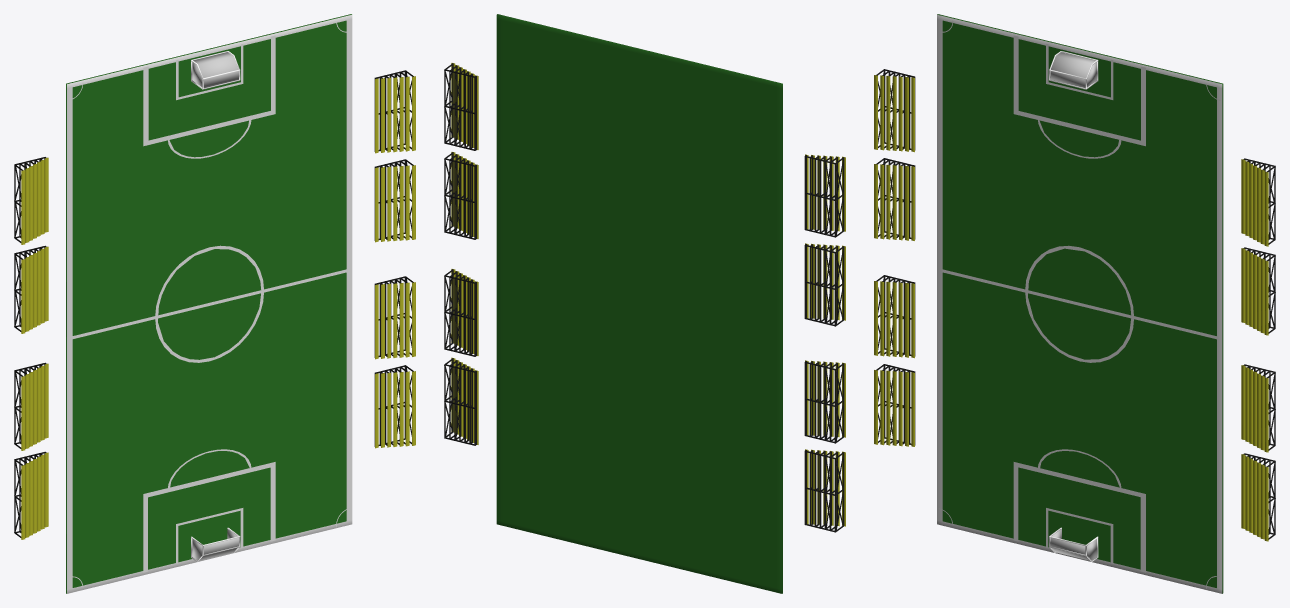
File: Soccer Field.fbx
3 views of the same model, side by side, from view 1: azimuth 30°, elevation 25°; view 2: azimuth 150°, elevation 25°; view 3: azimuth 330°, elevation 25° (orthographic).
Parts seen in each view (by area): view 1: Plane.002 (×2), Cube.032 (×2), Cube.031 (×2), Cube.030 (×2), Cube.033 (×2), Cube.015 (×2), Cube.028 (×2), Cube.029 (×2), Cube.027 (×2), Cube.006, Cube.003; view 2: Plane.002, Cube.029 (×2), Cube.027 (×2), Cube.015 (×2), Cube.028 (×2), Cube.031 (×2), Cube.032 (×2), Cube.033 (×2), Cube.030 (×2); view 3: Plane.002 (×2), Cube.015 (×2), Cube.027 (×2), Cube.029 (×2), Cube.028 (×2), Cube.031 (×2), Cube.033 (×2), Cube.032 (×2), Cube.030 (×2), Cube.006, Cube.003.
Part boxes in pixels (x1,y1,x2,y2): Plane.002 (×2): (66,14,352,593); Cube.032 (×2): (374,159,415,242); Cube.031 (×2): (374,365,415,448); Cube.030 (×2): (374,276,415,359); Cube.033 (×2): (374,70,415,153); Cube.015 (×2): (14,451,48,539); Cube.028 (×2): (14,157,48,244); Cube.029 (×2): (14,245,48,333); Cube.027 (×2): (14,362,48,450); Cube.006: (192,52,238,87); Cube.003: (192,529,238,560); Plane.002: (496,14,782,593); Cube.029 (×2): (804,243,845,326); Cube.027 (×2): (804,360,845,443); Cube.015 (×2): (804,449,845,532); Cube.028 (×2): (804,154,845,237); Cube.031 (×2): (444,357,478,445); Cube.032 (×2): (444,152,478,239); Cube.033 (×2): (444,63,478,150); Cube.030 (×2): (444,269,478,356); Plane.002 (×2): (937,14,1223,593); Cube.015 (×2): (874,364,915,446); Cube.027 (×2): (874,275,915,358); Cube.029 (×2): (874,158,915,240); Cube.028 (×2): (874,69,915,152); Cube.031 (×2): (1241,453,1275,541); Cube.033 (×2): (1241,158,1275,246); Cube.032 (×2): (1241,247,1275,335); Cube.030 (×2): (1241,364,1275,452); Cube.006: (1050,52,1096,88); Cube.003: (1050,529,1096,560).
Size of the model in its own units: 39.15 by 48.38 by 2.21.
